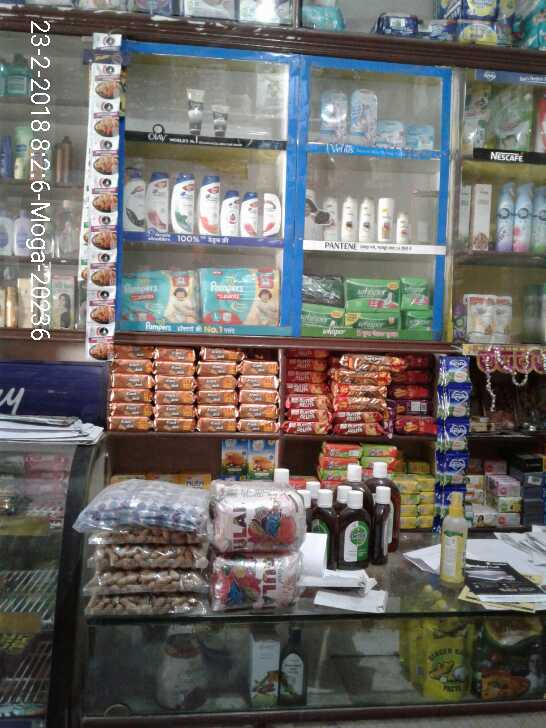ambipureVesus: (514, 182, 532, 252), (497, 180, 513, 252), (532, 186, 546, 255)
venus: (351, 91, 376, 146), (322, 88, 346, 143), (377, 120, 403, 147), (406, 123, 433, 147)
